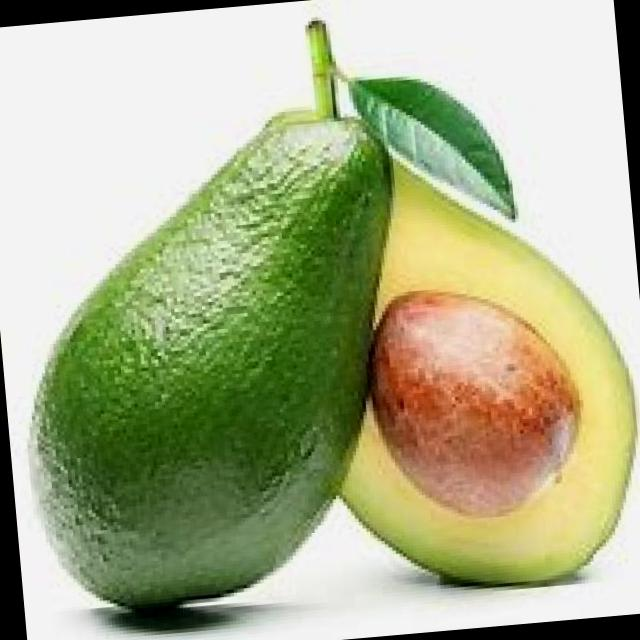avocado: (0, 100, 428, 630)
